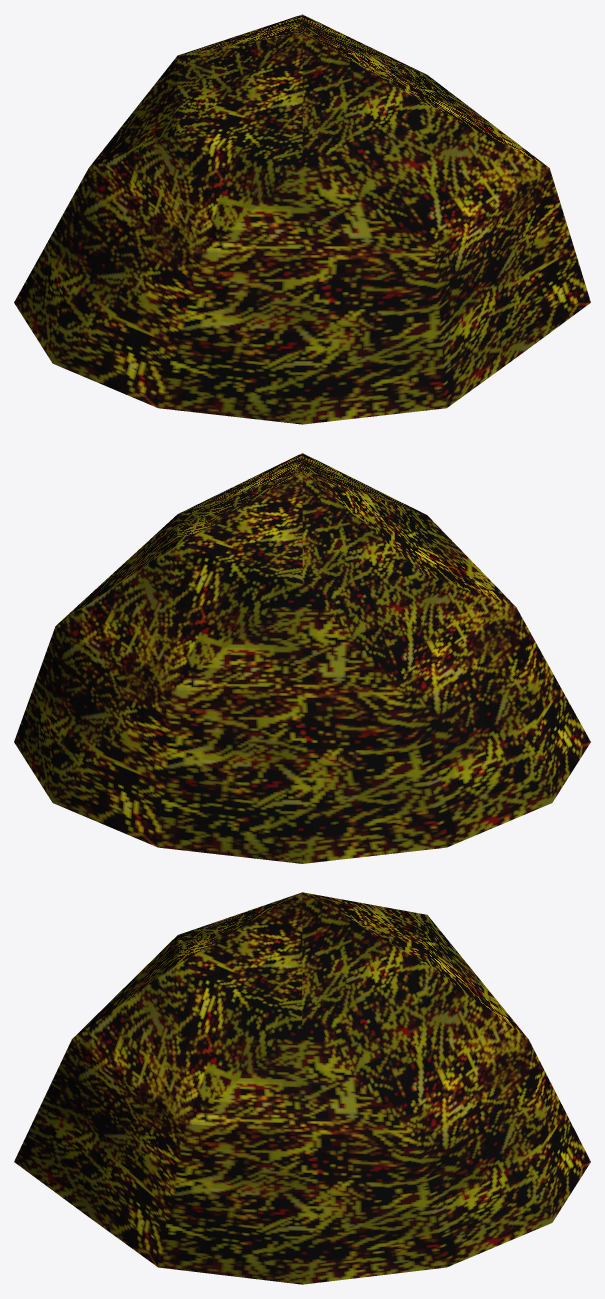
File: Environment - Prop - Crop Pile - Damaged - PMHAYPILE_D.glb
The picture shows the model from 3 angles, top to bottom: view 1: azimuth 30°, elevation 25°; view 2: azimuth 150°, elevation 25°; view 3: azimuth 270°, elevation 25°; orthographic projection.
Visible parts, largest first — view 1: PMHAYPILE_D; view 2: PMHAYPILE_D; view 3: PMHAYPILE_D.
Boxes of the visible parts, <box> form: PMHAYPILE_D: <box>14,14,590,424</box>; PMHAYPILE_D: <box>14,453,590,863</box>; PMHAYPILE_D: <box>14,892,590,1284</box>.
Bounding box in the file's own units: 20.42 × 10.56 × 20.42.
Materials: 1 (1 with a texture image).
